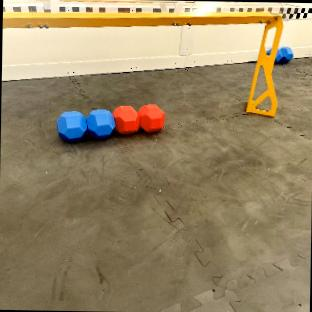Goal: (2, 9, 283, 116)
V5_BLUE: (57, 108, 114, 140), (275, 47, 292, 62), (266, 49, 270, 54)
V5_RED: (112, 103, 164, 134)
